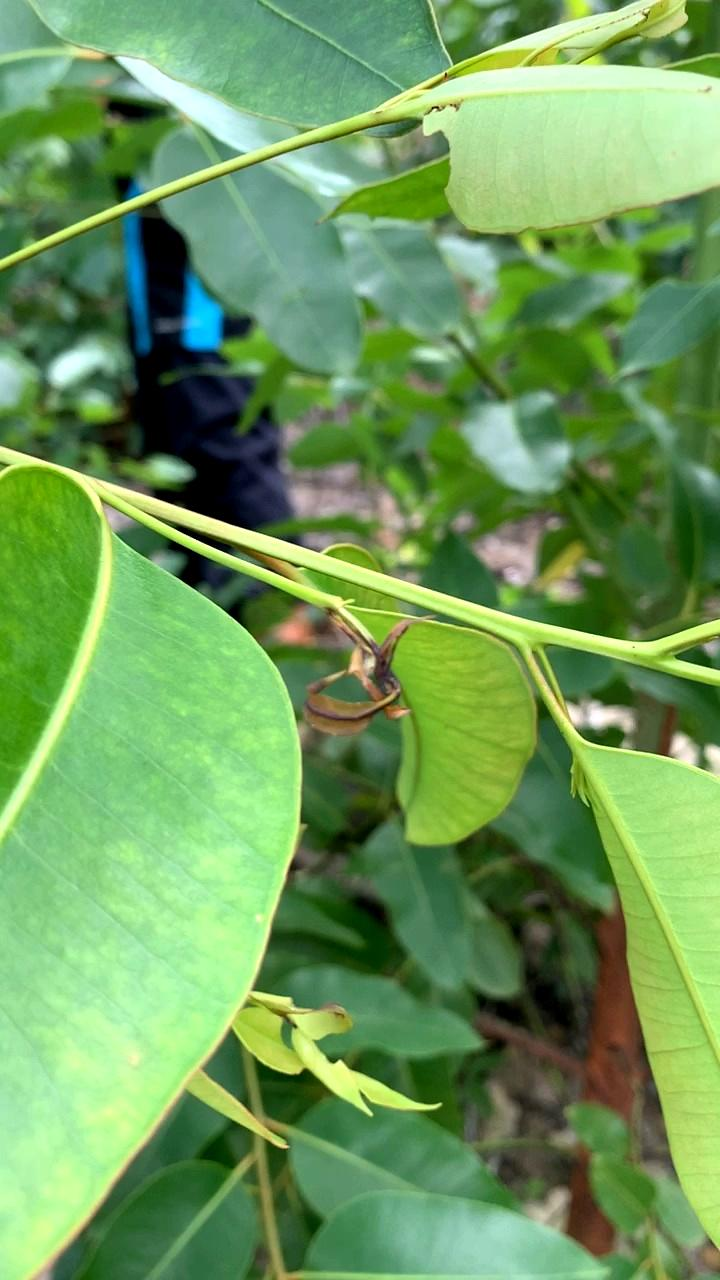Helopeltis-Withered Sprout: (289, 610, 433, 740)
